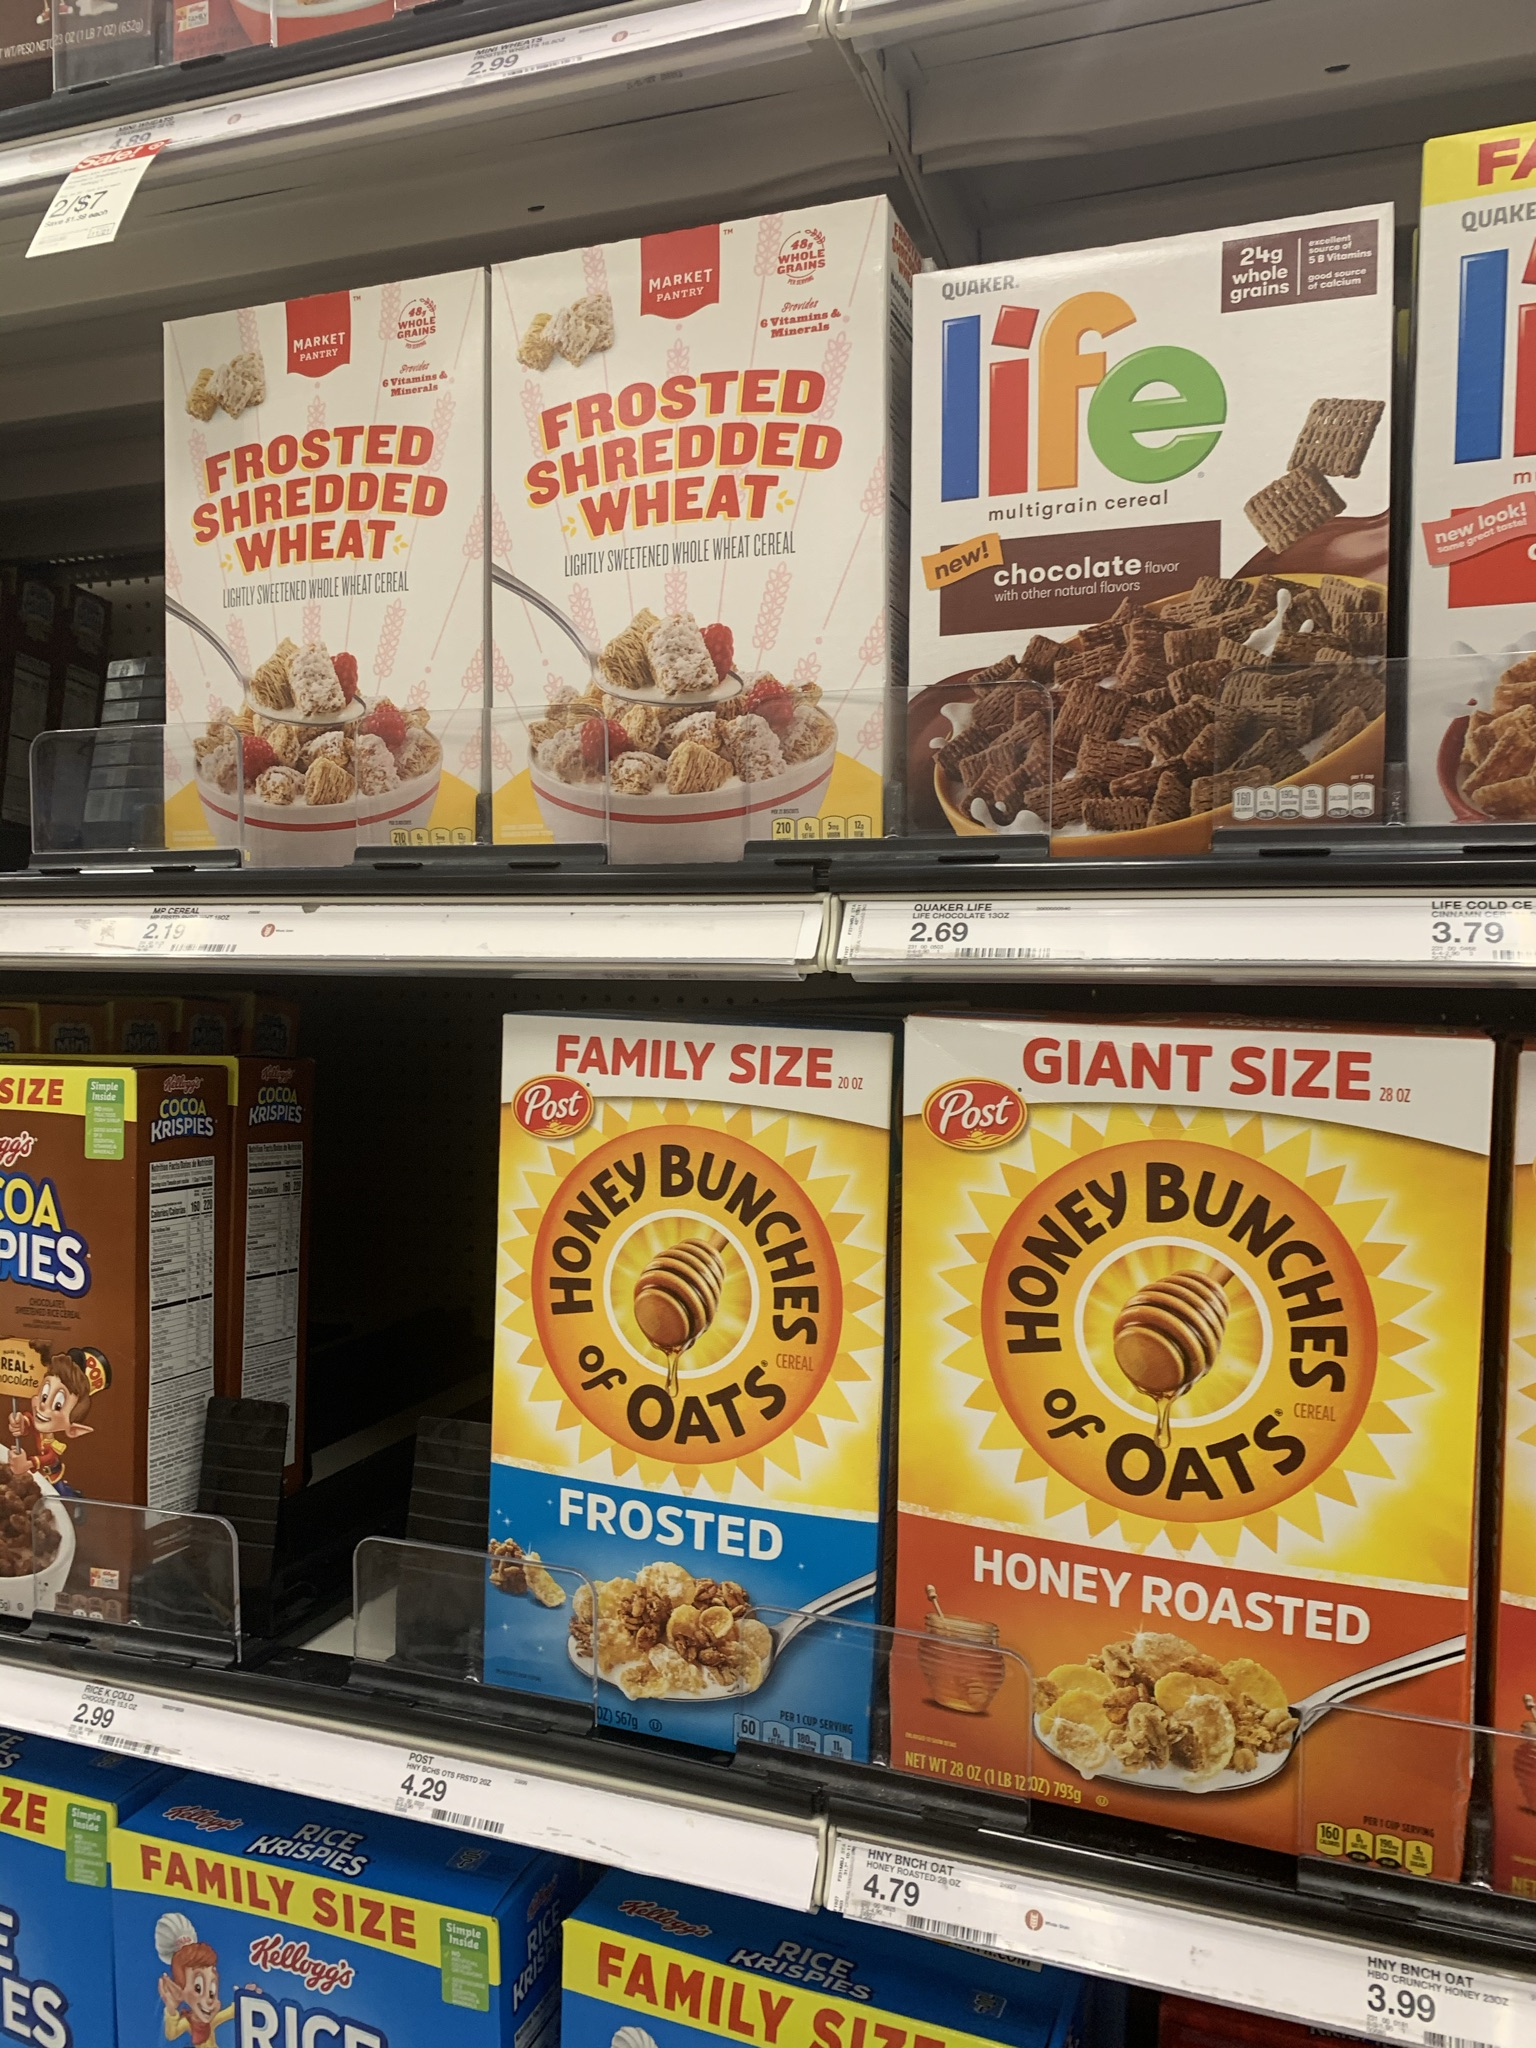box: (925, 1021, 1470, 1709), (507, 1045, 883, 1584), (500, 281, 878, 726), (926, 284, 1381, 642), (181, 327, 486, 763)
